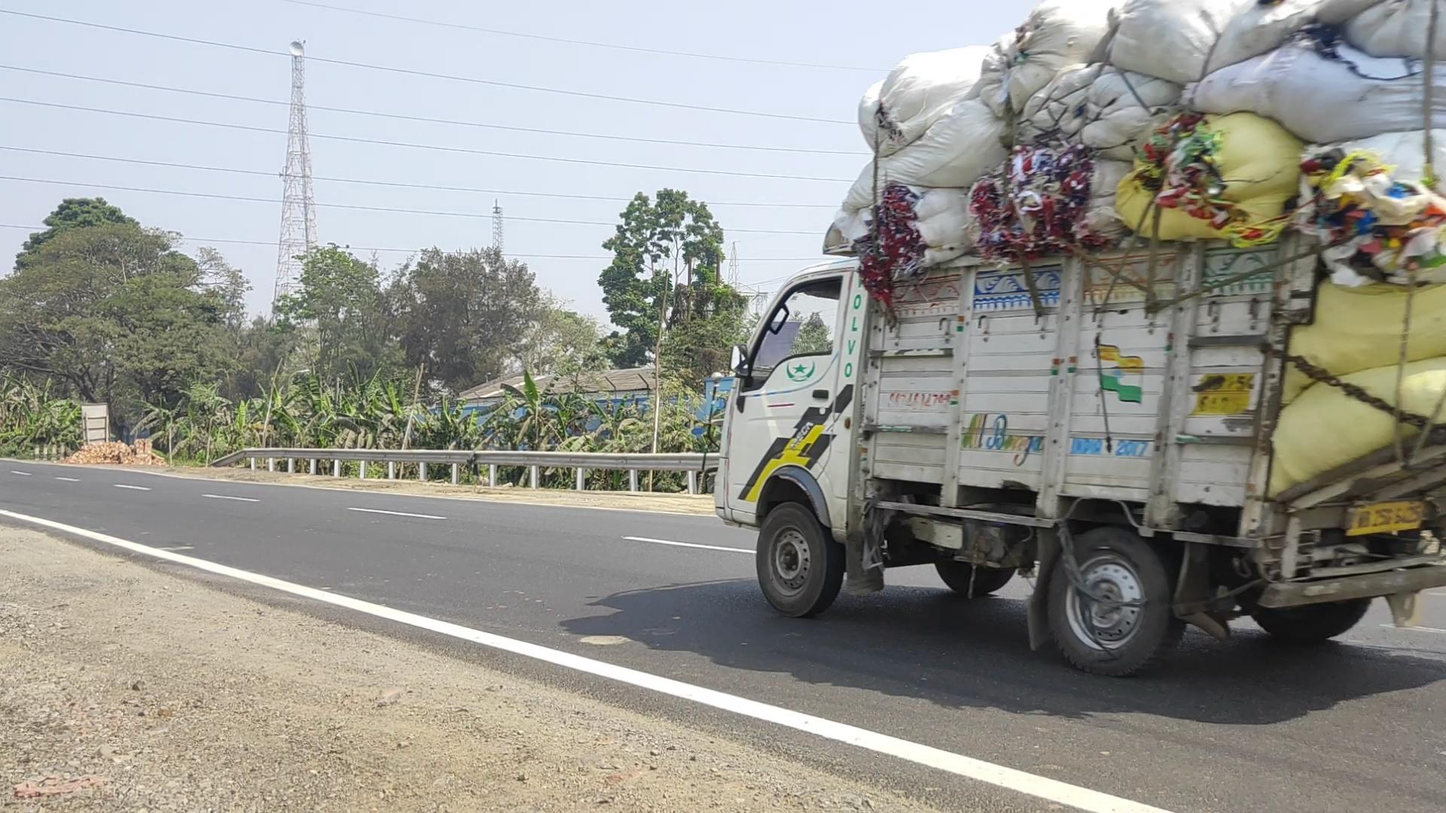van: (701, 2, 1446, 679)
